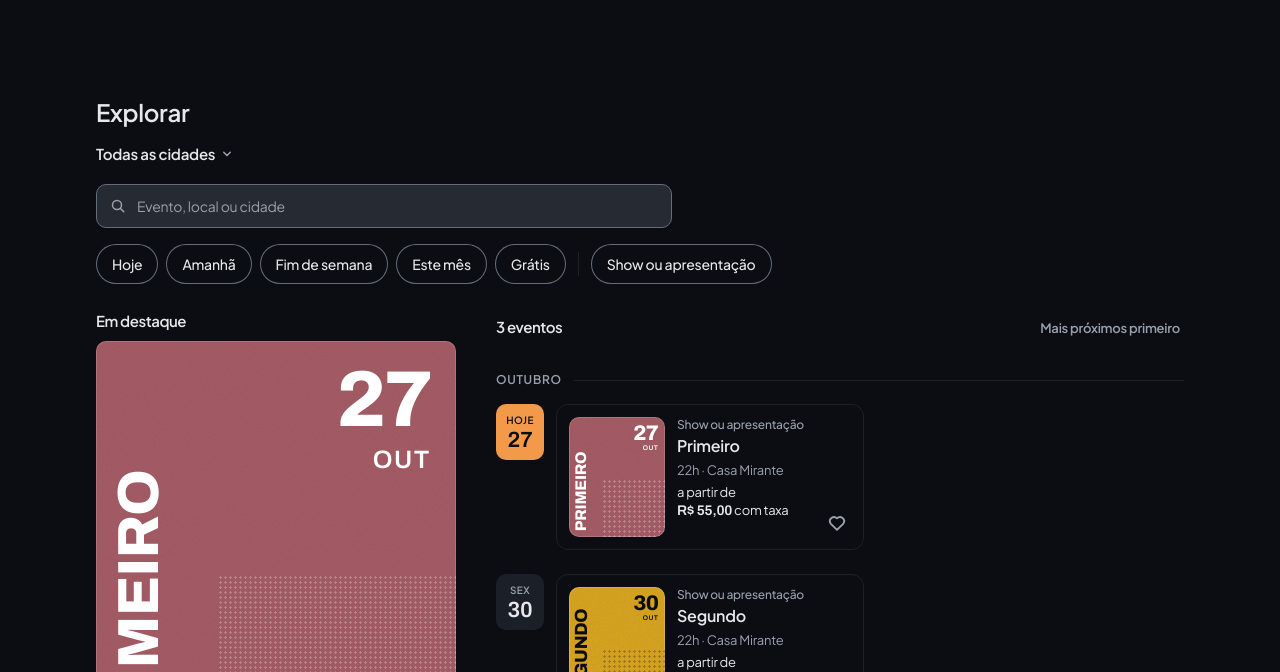
Test: Explorar (V11b) › ordenar por data: alterna entre mais próximos e mais distantes primeiro
Expected: the heading "3 eventos" is shown, [496, 318, 562, 335]
What coordinates should you click on to do the following:
click the button "Mais próximos primeiro"
I would click on:
 (1110, 328)
Its box is [1028, 312, 1192, 344].
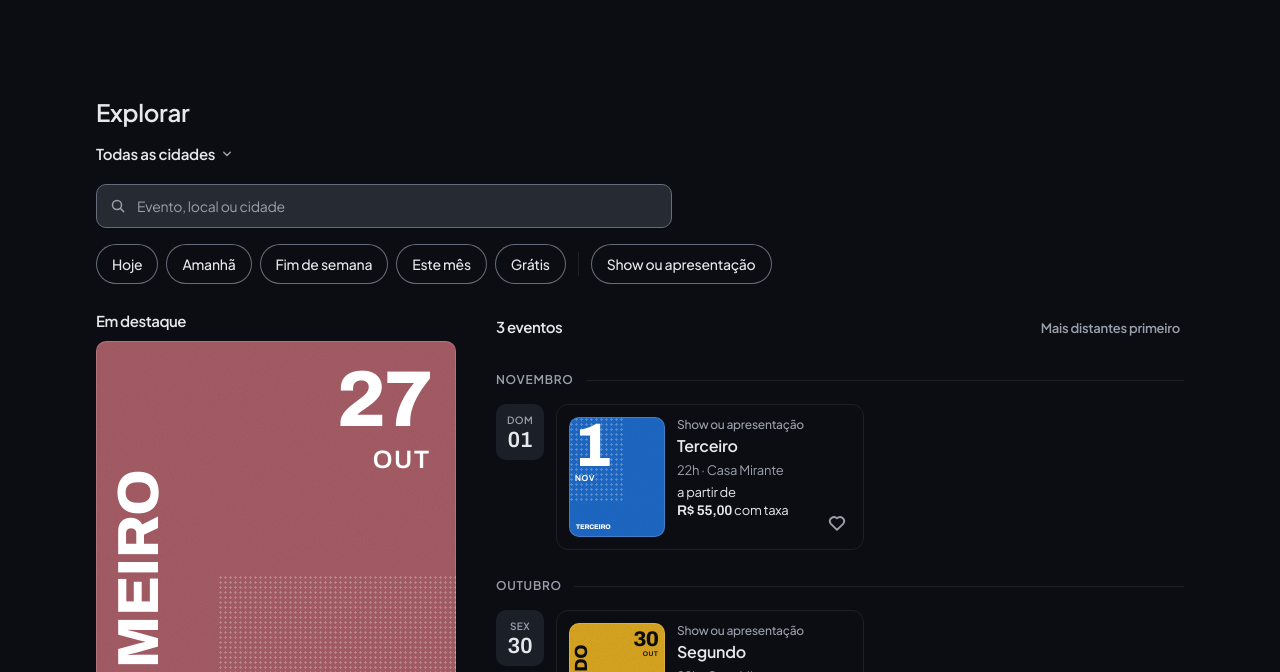
Expected: the button "Mais distantes primeiro" is shown, [1029, 312, 1192, 344]
